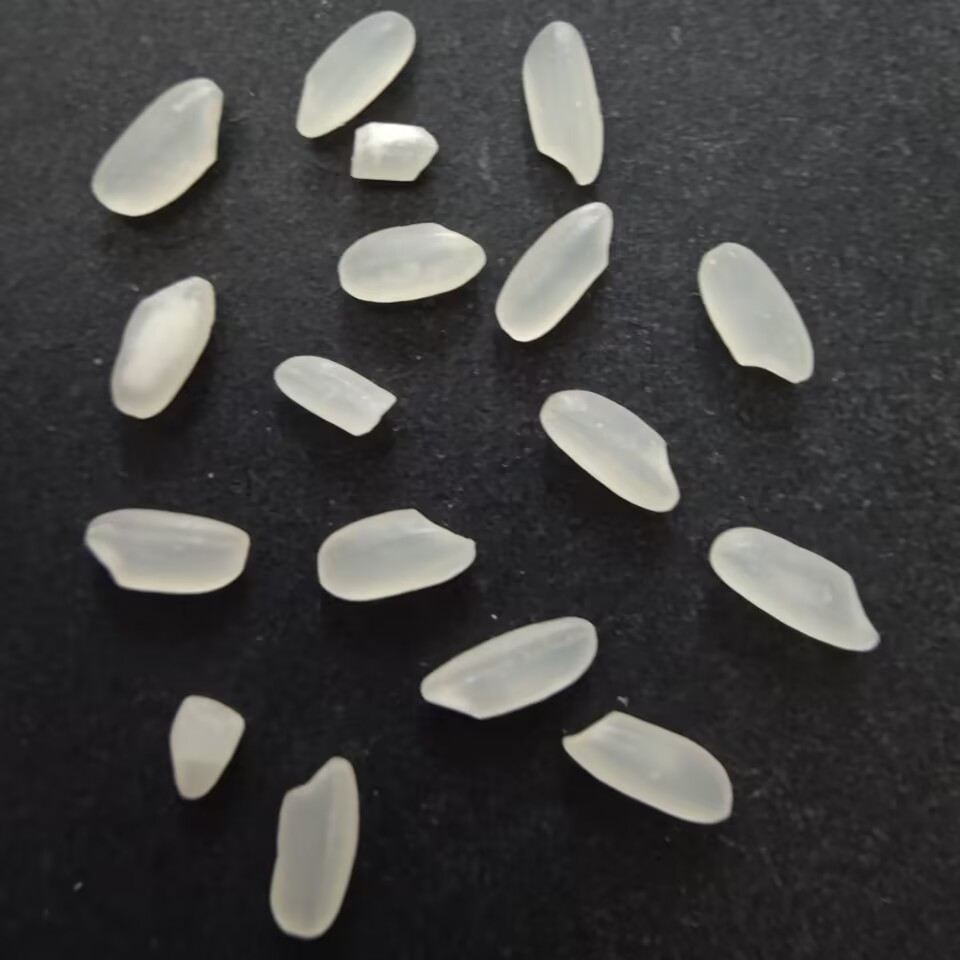broken: (268, 354, 399, 438), (169, 692, 247, 804), (345, 119, 442, 187)
rice: (708, 525, 882, 655), (559, 707, 740, 825), (90, 72, 230, 220), (418, 613, 600, 719), (538, 388, 683, 517), (266, 752, 363, 942), (496, 198, 619, 345), (698, 240, 818, 388), (313, 504, 482, 607), (107, 274, 217, 426), (293, 9, 418, 141), (77, 506, 252, 599), (516, 19, 603, 189), (336, 219, 490, 307)
